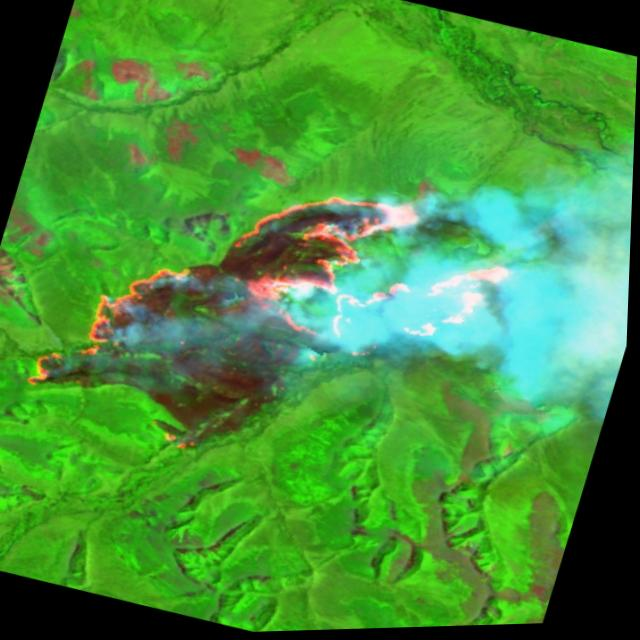fire: (13, 115, 533, 528)
